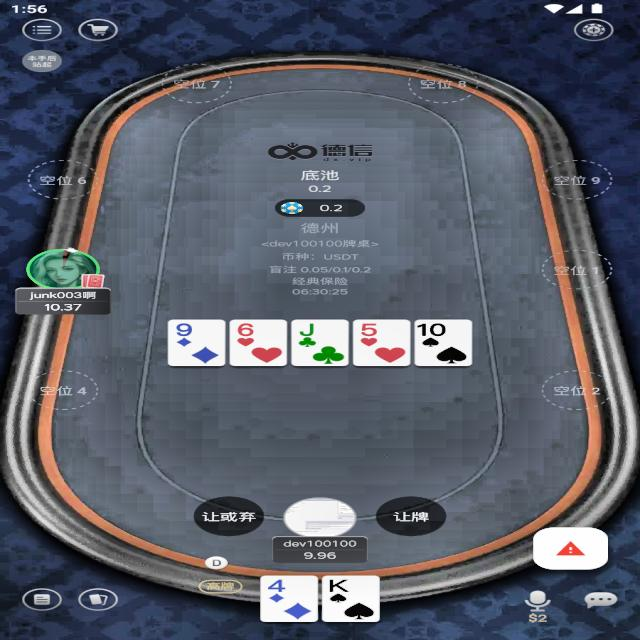10s: (416, 322, 449, 338)
4f: (264, 578, 291, 594)
5h: (358, 320, 383, 338)
6h: (232, 322, 258, 338)
9f: (173, 322, 199, 338)
Jm: (296, 321, 322, 337)
Ks: (325, 578, 356, 594)
